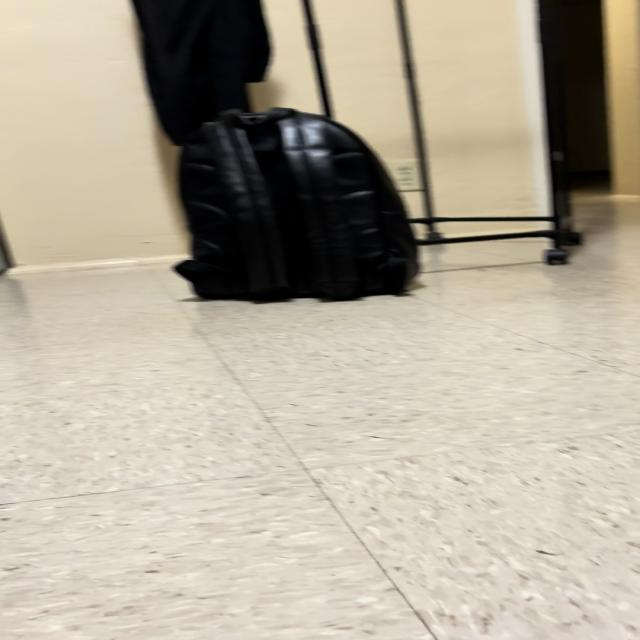backpack: (175, 109, 418, 300)
